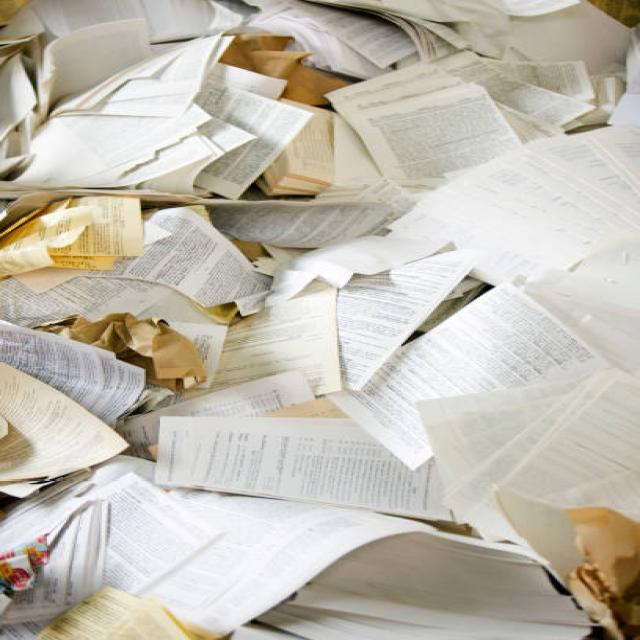electronic: (248, 530, 598, 639), (152, 414, 453, 522), (323, 63, 524, 187), (31, 585, 228, 639)
